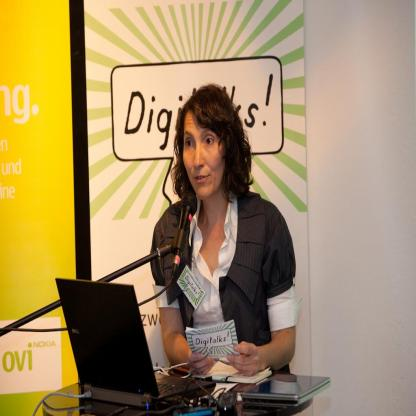board: (55, 278, 216, 405), (239, 372, 332, 408)
